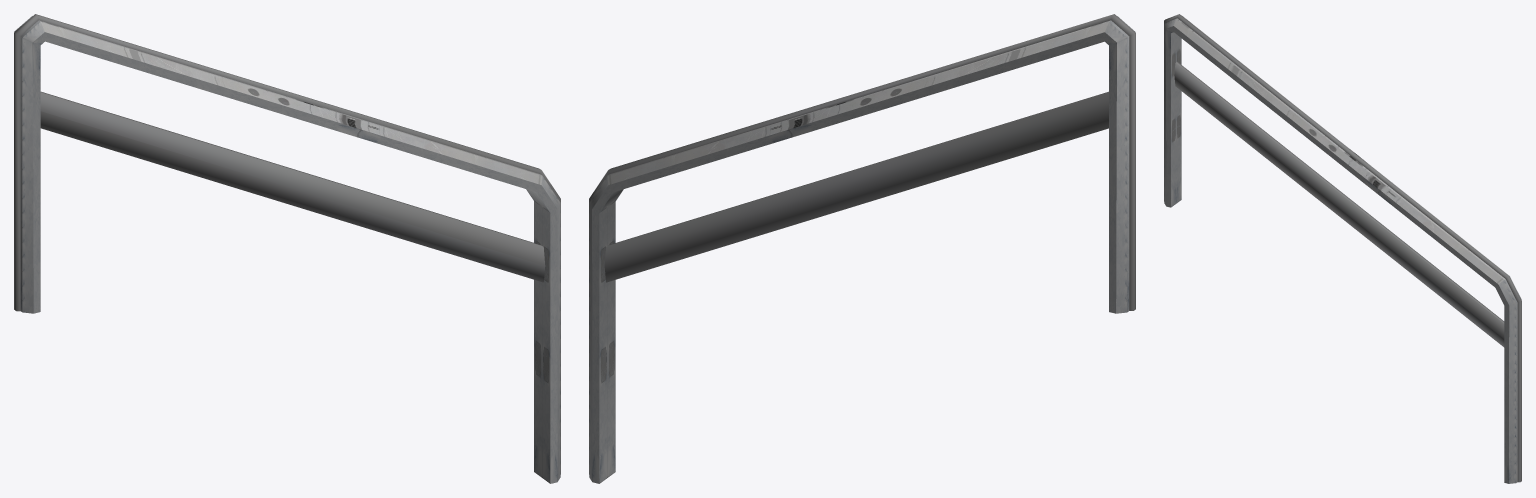
Rendered from SM_SRamb1.fbx.
3 views of the same model, side by side, from view 1: azimuth 30°, elevation 25°; view 2: azimuth 150°, elevation 25°; view 3: azimuth 330°, elevation 25° (orthographic). The views are drawn at different scales.
Visible parts, largest first — view 1: SM_SRamb1_LOD0; view 2: SM_SRamb1_LOD0; view 3: SM_SRamb1_LOD0.
Boxes of the visible parts, bbox=[...] form: SM_SRamb1_LOD0: bbox=[14, 14, 560, 483]; SM_SRamb1_LOD0: bbox=[589, 14, 1135, 483]; SM_SRamb1_LOD0: bbox=[1164, 14, 1521, 483].
Size of the model in its own units: 192 by 10 by 198.
